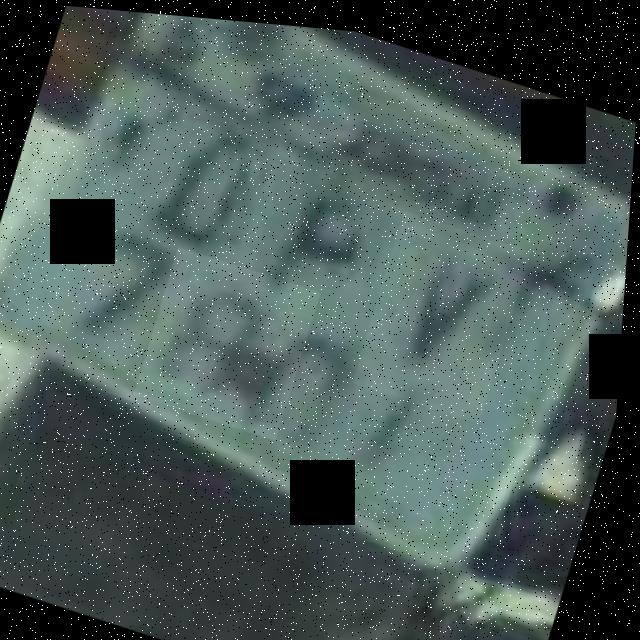1: (326, 341, 447, 490)
7: (43, 201, 200, 361), (246, 296, 391, 455)
8: (137, 241, 325, 437)
U: (124, 90, 294, 272)
Y: (355, 200, 535, 417)
